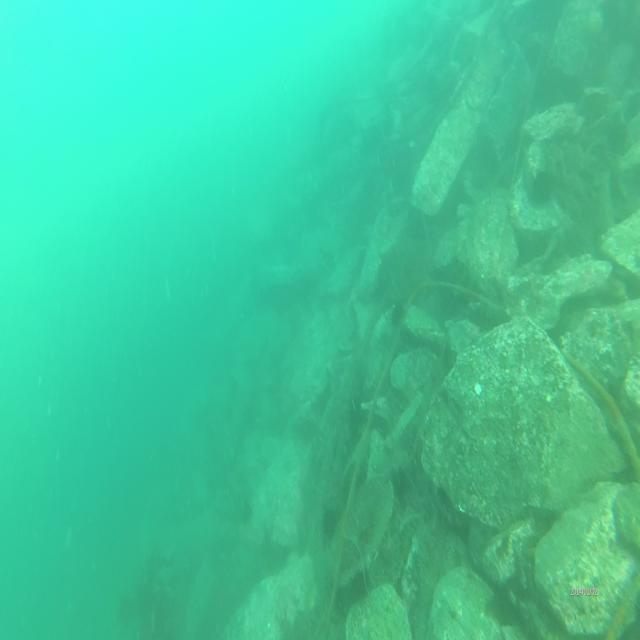echinus: (527, 163, 555, 208), (319, 507, 341, 541)
